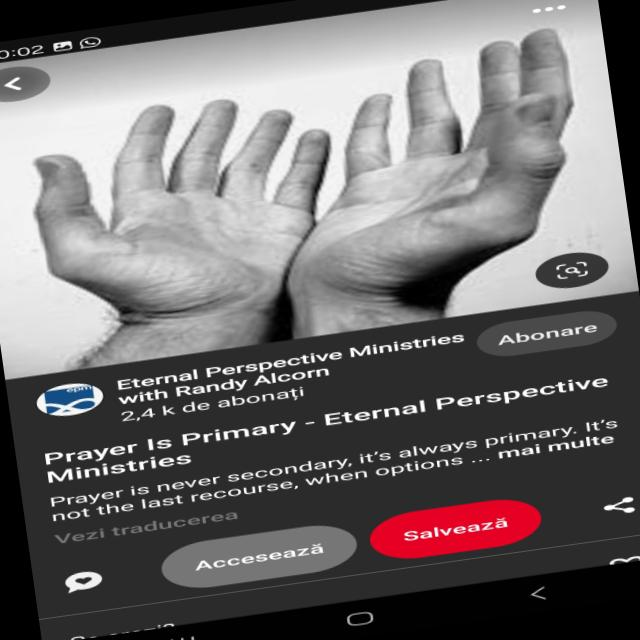hands: (245, 0, 632, 320), (0, 37, 361, 368)
